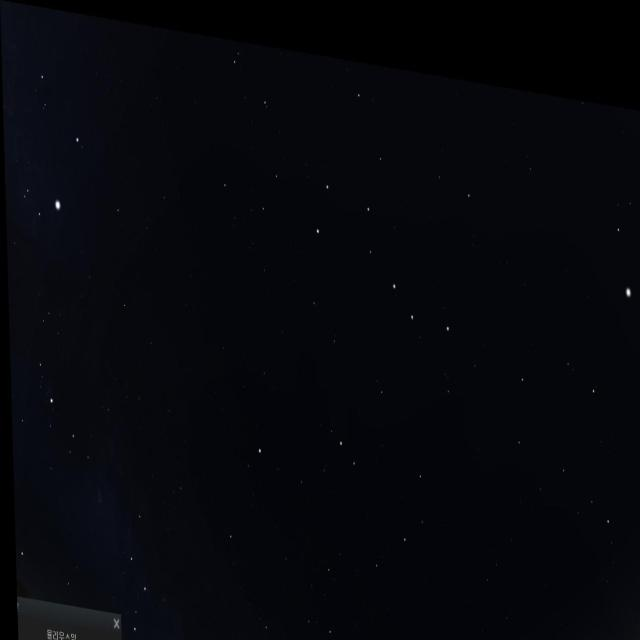cassiopeia: (114, 484, 170, 640)
ursa_major: (311, 154, 451, 320)
